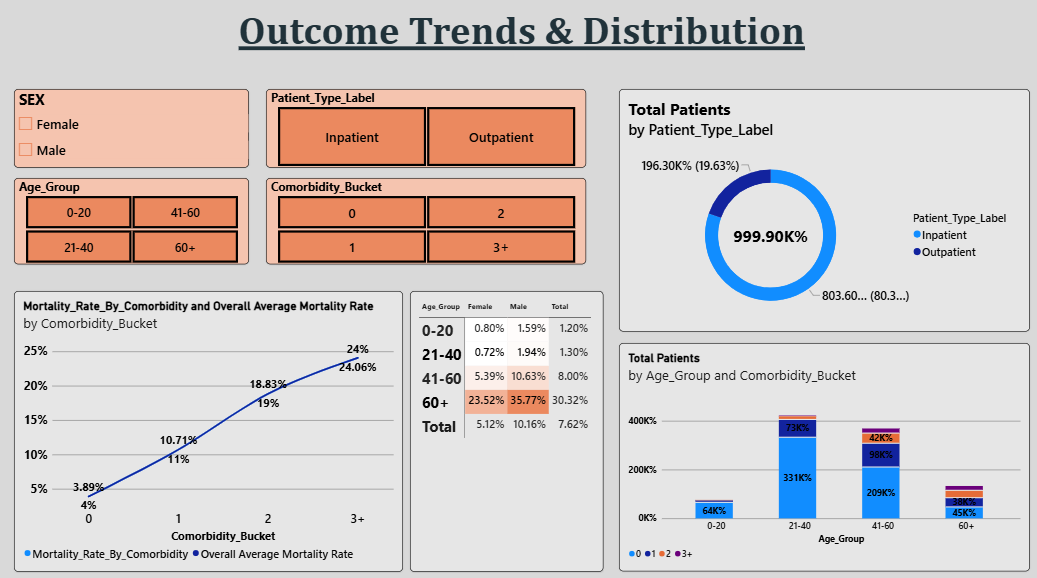

The page's visual inventory and layout, read from the dashboard file:
{"tool":"powerbi","page":{"name":"Outcome Trends & Distribution","canvas":[1920,1080],"ordinal":2},"visuals":[{"type":"textbox","box":[435,20,1050,106.7],"z":0},{"type":"lineChart","fields":{"Category":["Covid_Patients.Comorbidity_Bucket"],"Y":["Measures (2).Mortality_Rate_By_Comorbidity","Measures (2).Overall Average Mortality Rate"]},"box":[32,540,712,514],"z":1000},{"type":"pivotTable","fields":{"Columns":["Covid_Patients.SEX"],"Rows":["Covid_Patients.Age_Group"],"Values":["Measures (2).Mortality Rate"]},"box":[756,540,354,514],"z":2000},{"type":"donutChart","fields":{"Category":["Covid_Patients.Patient_Type_Label"],"Y":["Measures (2).Total Patients"]},"box":[1138,170,752,444],"z":3000},{"type":"columnChart","fields":{"Category":["Covid_Patients.Age_Group"],"Series":["Covid_Patients.Comorbidity_Bucket"],"Y":["Measures (2).Total Patients"]},"box":[1138,636,752,418],"z":4000},{"type":"slicer","fields":{"Values":["Covid_Patients.SEX"]},"box":[32,170,430,144],"z":5000},{"type":"slicer","fields":{"Values":["Covid_Patients.Age_Group"]},"box":[32,334,430,158],"z":6000},{"type":"slicer","fields":{"Values":["Covid_Patients.Patient_Type_Label"]},"box":[492,170,586,144],"z":7000},{"type":"slicer","fields":{"Values":["Covid_Patients.Comorbidity_Bucket"]},"box":[492,334,586,158],"z":8000}]}

Visuals, with their boxes in screenshot pixels (x1, y1, x2, y2), scaled from the page's 1920x1080 canvas onto the 1037x578 screenshot:
textbox: (left=235, top=11, right=802, bottom=68)
lineChart - Covid_Patients.Comorbidity_Bucket x Measures (2).Mortality_Rate_By_Comorbidity: (left=17, top=289, right=402, bottom=564)
pivotTable - Covid_Patients.SEX x Covid_Patients.Age_Group: (left=408, top=289, right=600, bottom=564)
donutChart - Covid_Patients.Patient_Type_Label x Measures (2).Total Patients: (left=615, top=91, right=1021, bottom=329)
columnChart - Covid_Patients.Age_Group x Covid_Patients.Comorbidity_Bucket: (left=615, top=340, right=1021, bottom=564)
slicer - Covid_Patients.SEX: (left=17, top=91, right=250, bottom=168)
slicer - Covid_Patients.Age_Group: (left=17, top=179, right=250, bottom=263)
slicer - Covid_Patients.Patient_Type_Label: (left=266, top=91, right=582, bottom=168)
slicer - Covid_Patients.Comorbidity_Bucket: (left=266, top=179, right=582, bottom=263)
